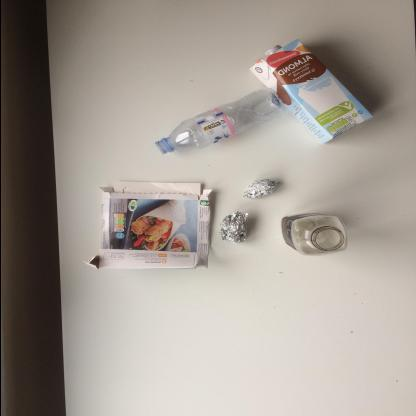karton: (250, 40, 374, 146), (83, 183, 214, 272)
metal: (219, 212, 249, 245), (243, 180, 281, 200)
plastik: (154, 90, 286, 156), (281, 213, 349, 257)
